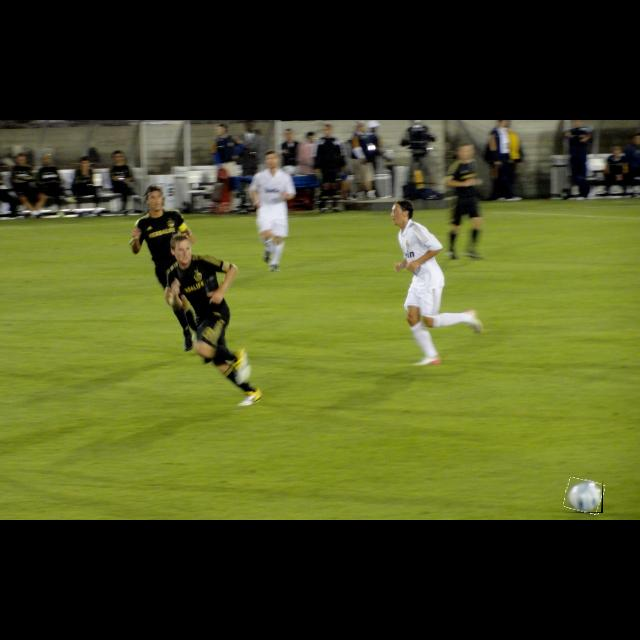Football: (565, 479, 603, 513)
